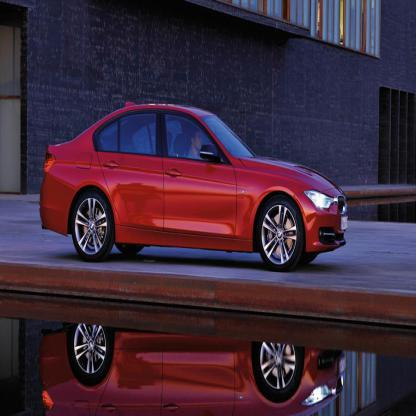Vehicle: (40, 99, 350, 276)
